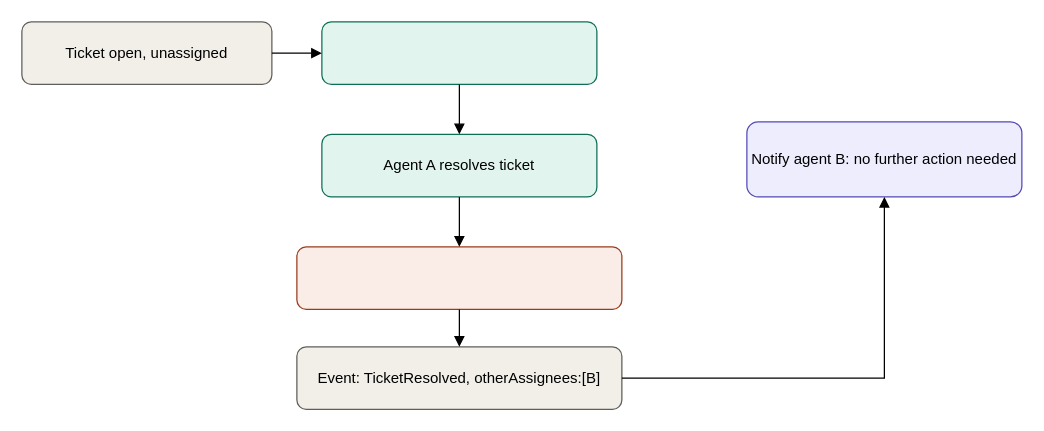
Image size: 1044x431. Some labels were removed from this diagram. The centre of each missing label's shape, as x and y in pixels:
"Assigned to agent(s) A and B" belongs at (x=459, y=52).
"Status updated, audit logged" belongs at (x=459, y=277).
